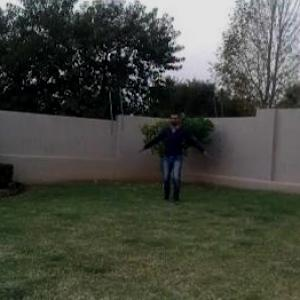land: (138, 84, 224, 221)
